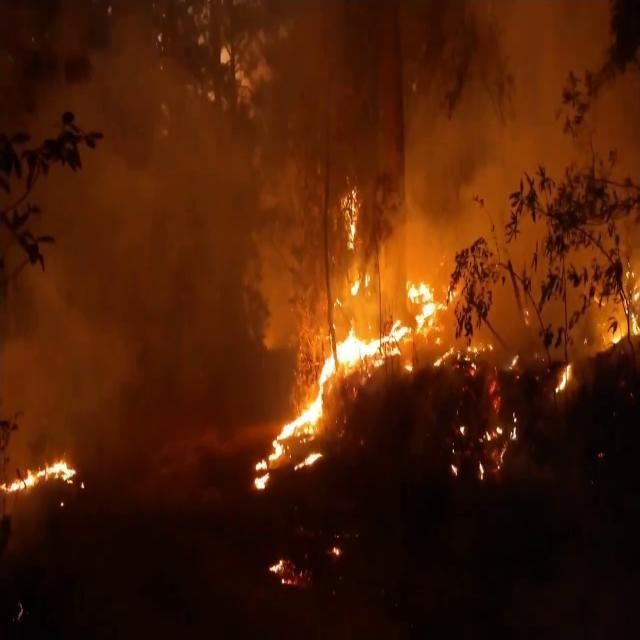Fire: (267, 236, 443, 458), (1, 449, 79, 496), (554, 359, 574, 399)
Smoke: (2, 1, 304, 454), (376, 1, 640, 335)
